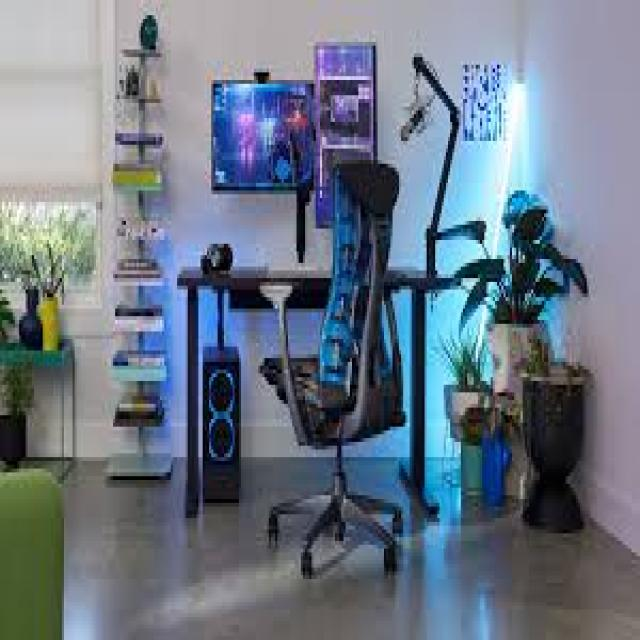chair: (244, 145, 437, 618)
